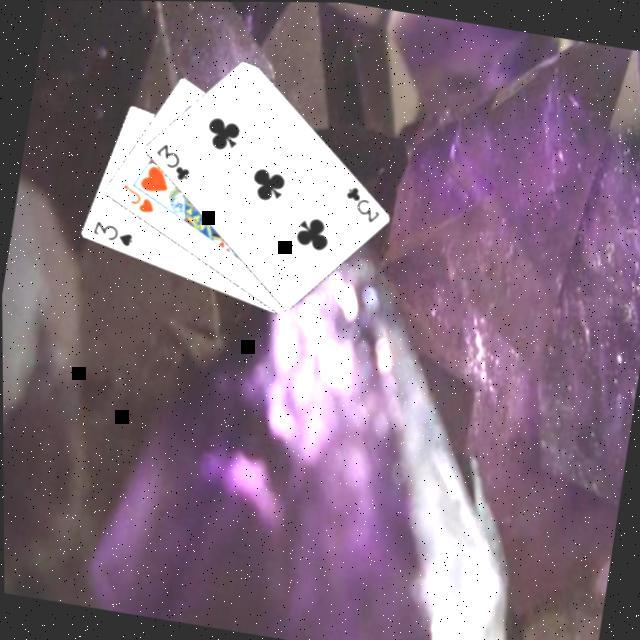3C: (147, 138, 195, 184), (337, 180, 385, 226)
3S: (86, 216, 136, 248)
JH: (114, 178, 159, 216)
